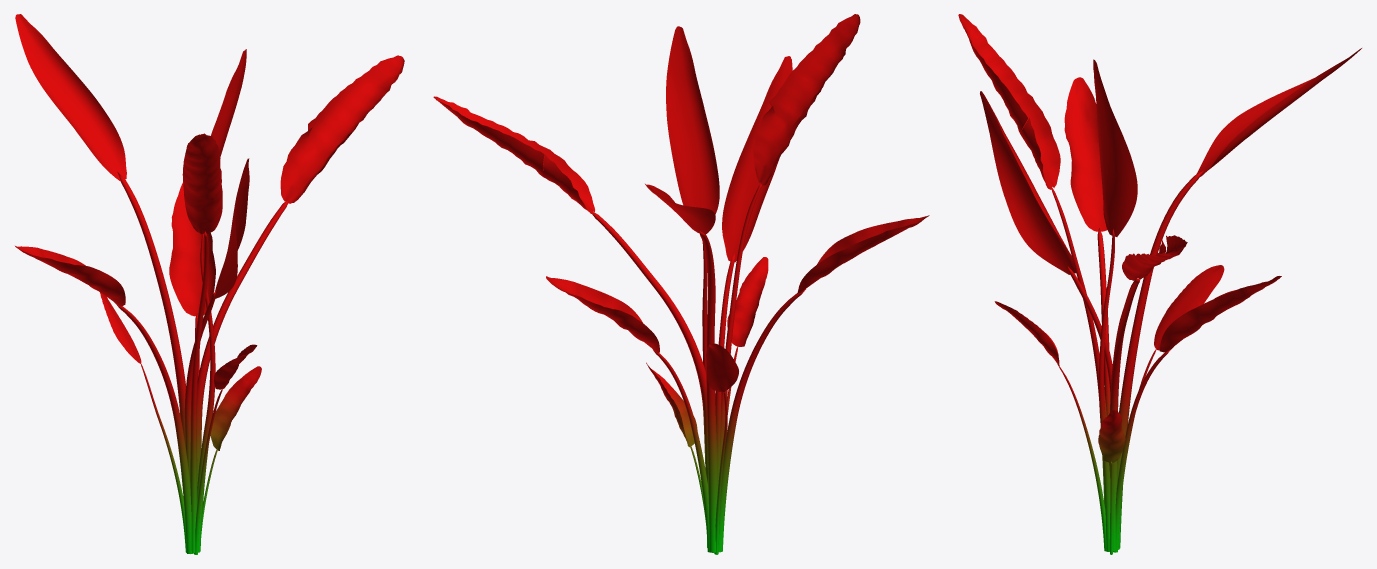
The model's file is Var11_LOD0.fbx.
3 renders of one model, left to right at view 1: azimuth 30°, elevation 25°; view 2: azimuth 150°, elevation 25°; view 3: azimuth 270°, elevation 25°, orthographic. The views are drawn at different scales.
Visible parts, largest first — view 1: _lhqn_Var11_LOD0; view 2: _lhqn_Var11_LOD0; view 3: _lhqn_Var11_LOD0.
Part boxes in pixels (<box>): _lhqn_Var11_LOD0: <box>15,14,404,554</box>; _lhqn_Var11_LOD0: <box>433,14,929,554</box>; _lhqn_Var11_LOD0: <box>958,14,1361,554</box>.
Size of the model in its own units: 158 by 173 by 123.
